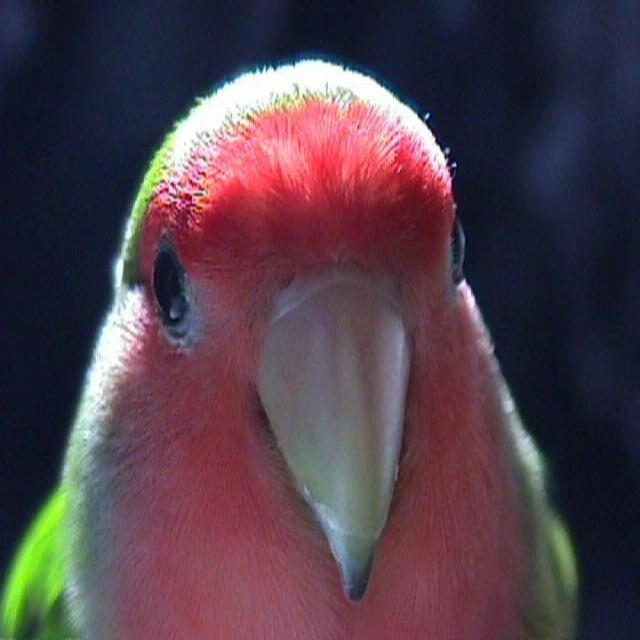Parrot: (0, 57, 578, 639)
